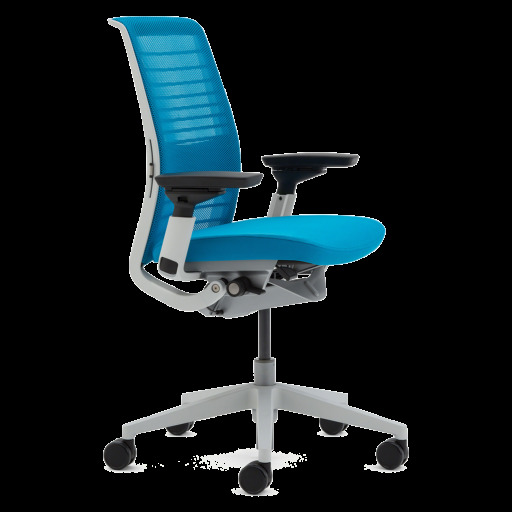chairs: (85, 13, 417, 495)
